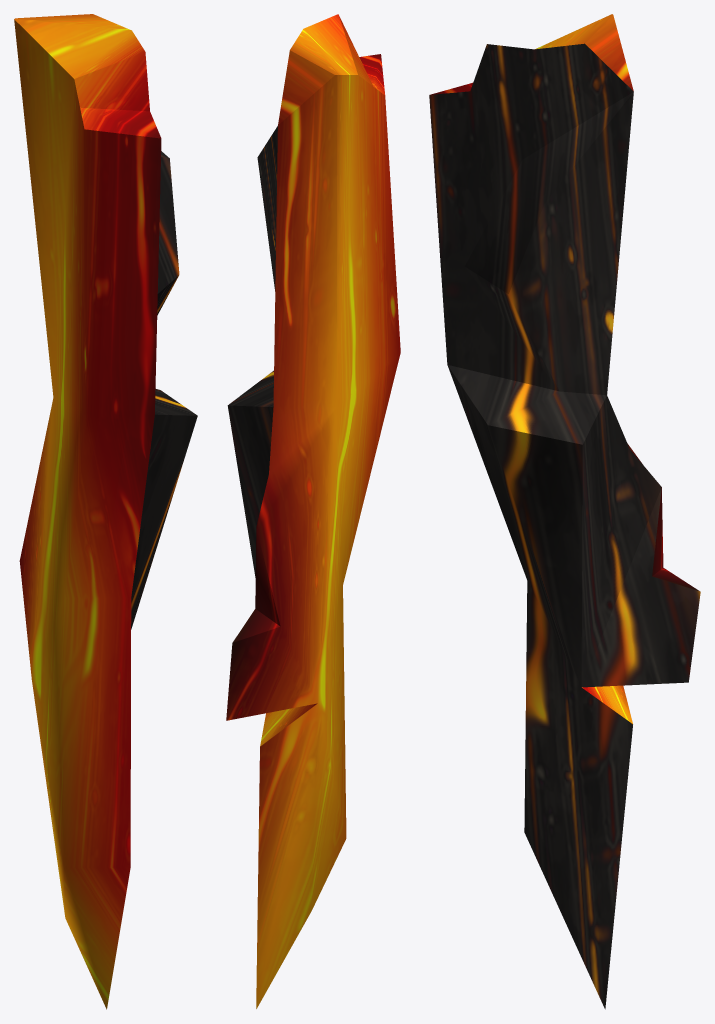
Rendered from p_mesh_hvs_burntforest_bark_part03.fbx.
3 views of the same model, side by side, from view 1: azimuth 30°, elevation 25°; view 2: azimuth 150°, elevation 25°; view 3: azimuth 270°, elevation 25° (orthographic). The views are drawn at different scales.
Parts seen in each view (by area): view 1: p_mesh_hvs_burntforest_bark_part03; view 2: p_mesh_hvs_burntforest_bark_part03; view 3: p_mesh_hvs_burntforest_bark_part03.
Part boxes in pixels (x1,y1,x2,y2): p_mesh_hvs_burntforest_bark_part03: [14, 14, 197, 1009]; p_mesh_hvs_burntforest_bark_part03: [226, 14, 400, 1008]; p_mesh_hvs_burntforest_bark_part03: [429, 14, 700, 1009].
Bounding box in the file's own units: 0.7053 × 5.19 × 1.34.
Materials: 1 (1 with a texture image).
